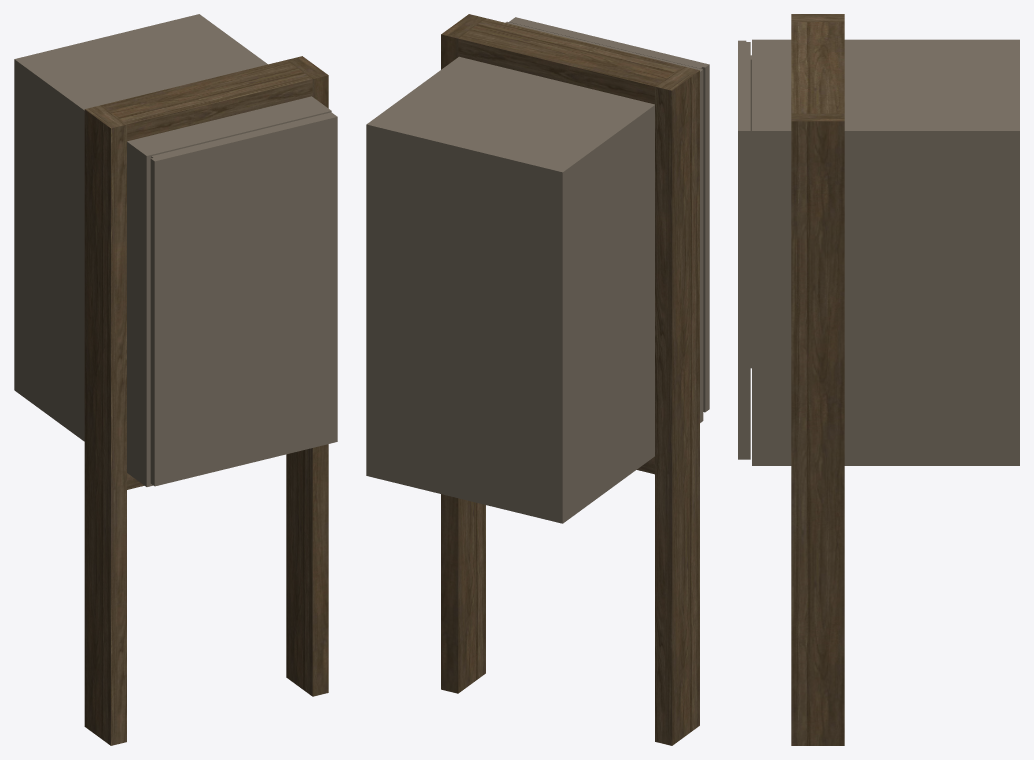
The model's file is de-boxstand_brownebony.fbx.
The picture shows the model from 3 angles, left to right: view 1: azimuth 30°, elevation 25°; view 2: azimuth 150°, elevation 25°; view 3: azimuth 270°, elevation 25°; orthographic projection. The views are drawn at different scales.
Visible parts, largest first — view 1: de-boxmonchu-brownebony; view 2: de-boxmonchu-brownebony; view 3: de-boxmonchu-brownebony.
Boxes of the visible parts, bbox=[...] form: de-boxmonchu-brownebony: bbox=[14, 14, 337, 745]; de-boxmonchu-brownebony: bbox=[366, 14, 709, 745]; de-boxmonchu-brownebony: bbox=[738, 14, 1019, 745].
Bounding box in the file's own units: 40.6 × 110 × 45.
Materials: 3 (2 with a texture image).
